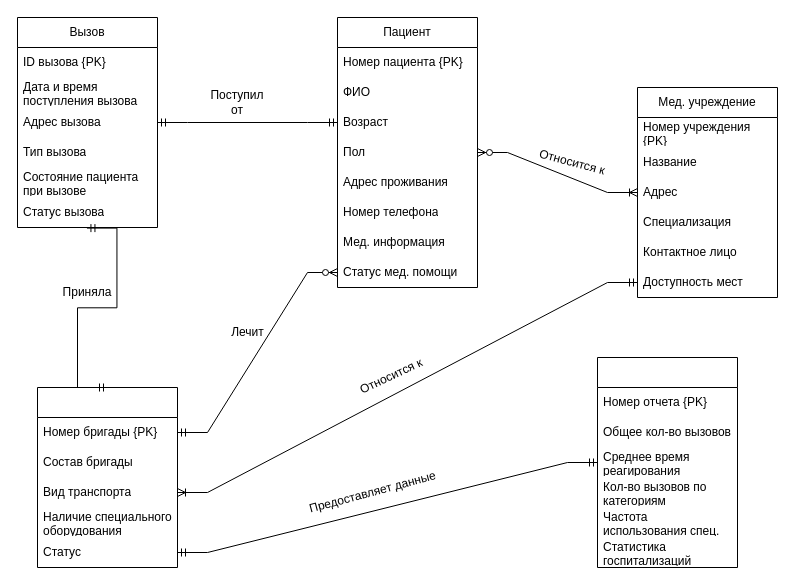
Image size: 795x585. Some labels were removed from this diagram. Each missing label, with the box of its shape:
Бригада скорой помощи: (36, 386, 178, 568)
Статистика и отчёты: (596, 356, 738, 568)
